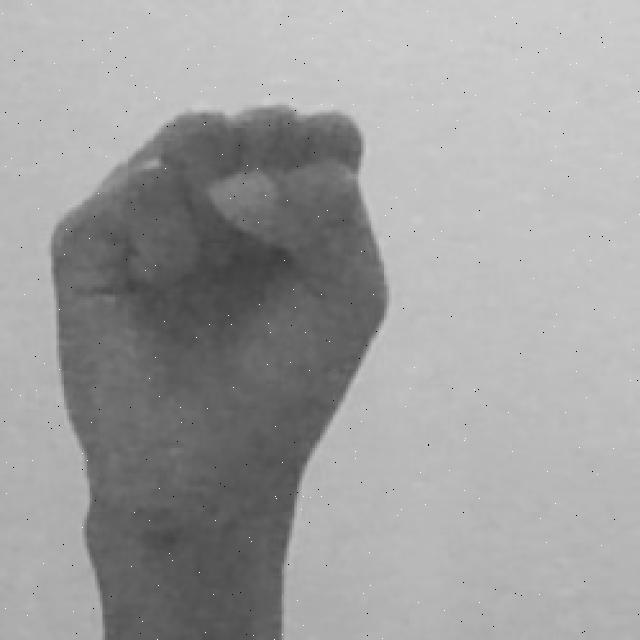S: (37, 94, 395, 640)
